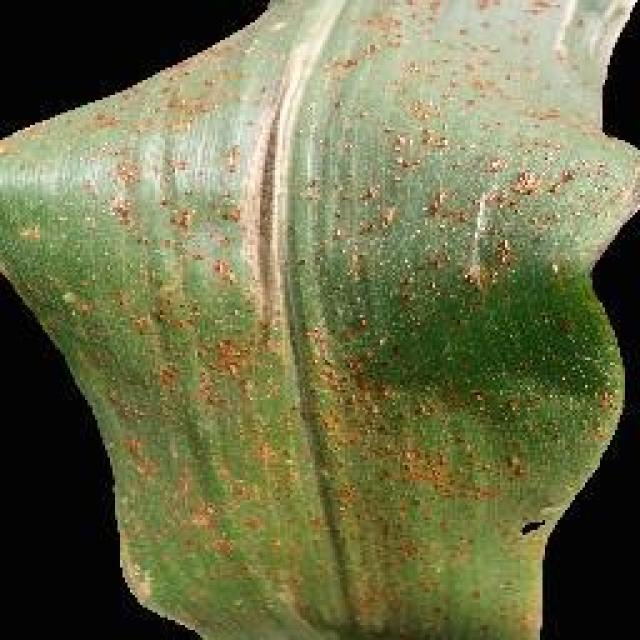Corn Common Rust: (120, 62, 555, 640)
